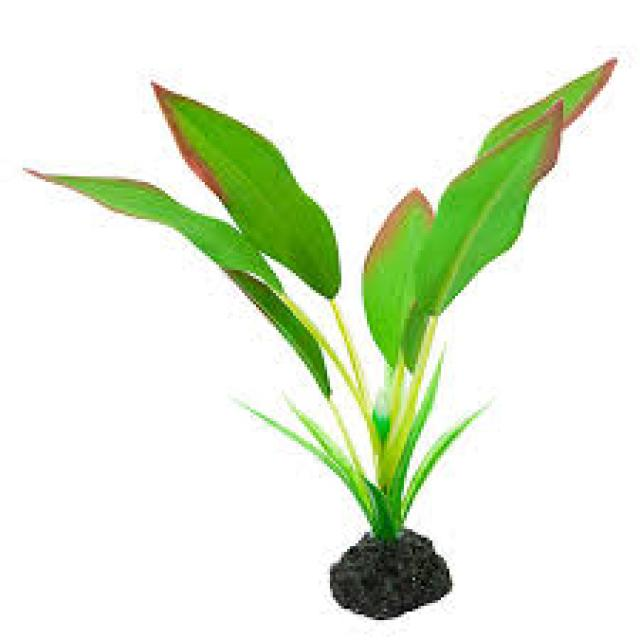organic: (83, 72, 502, 516)
